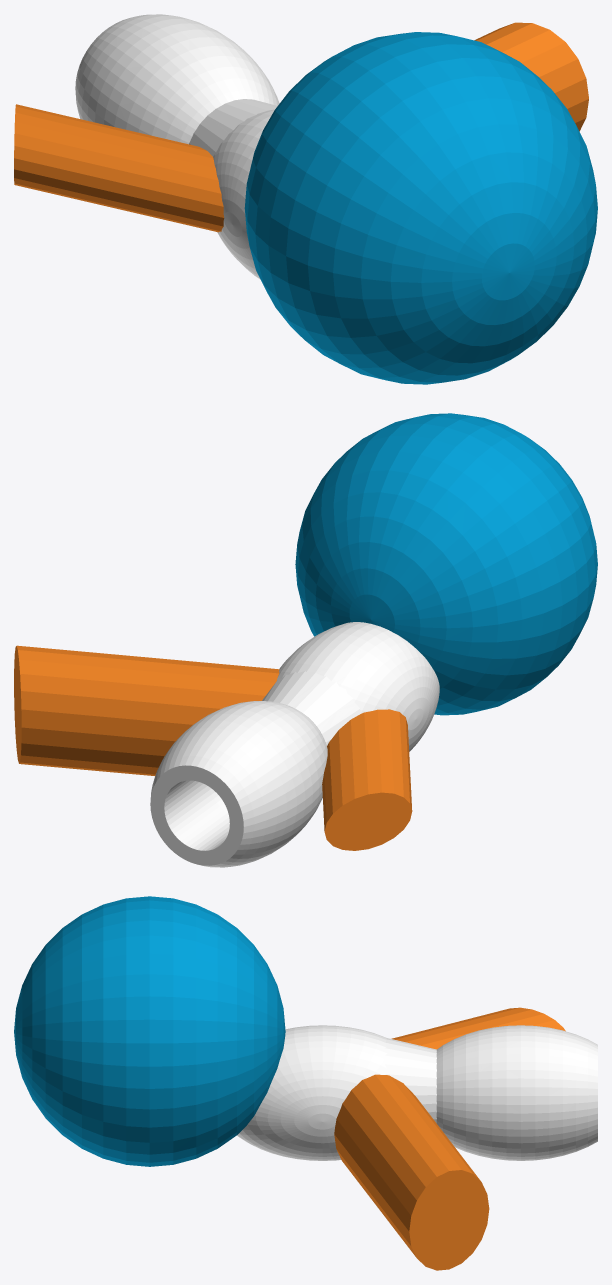
Rendered from people.obj.
3 views of the same model, one above another, from view 1: azimuth 30°, elevation 25°; view 2: azimuth 150°, elevation 25°; view 3: azimuth 270°, elevation 25° (orthographic). The views are drawn at different scales.
Visible parts, largest first — view 1: group_40919, group_16777215, group_16089887; view 2: group_40919, group_16777215, group_16089887; view 3: group_40919, group_16777215, group_16089887.
Part boxes in pixels (bbox=[...]): group_40919: bbox=[244, 32, 597, 384]; group_16777215: bbox=[75, 14, 279, 279]; group_16089887: bbox=[14, 22, 588, 232]; group_40919: bbox=[295, 413, 597, 715]; group_16777215: bbox=[150, 622, 439, 867]; group_16089887: bbox=[14, 645, 412, 850]; group_40919: bbox=[14, 896, 285, 1166]; group_16777215: bbox=[237, 1025, 597, 1160]; group_16089887: bbox=[334, 1007, 565, 1270].
Bounding box in the file's own units: 34 × 20 × 43.
